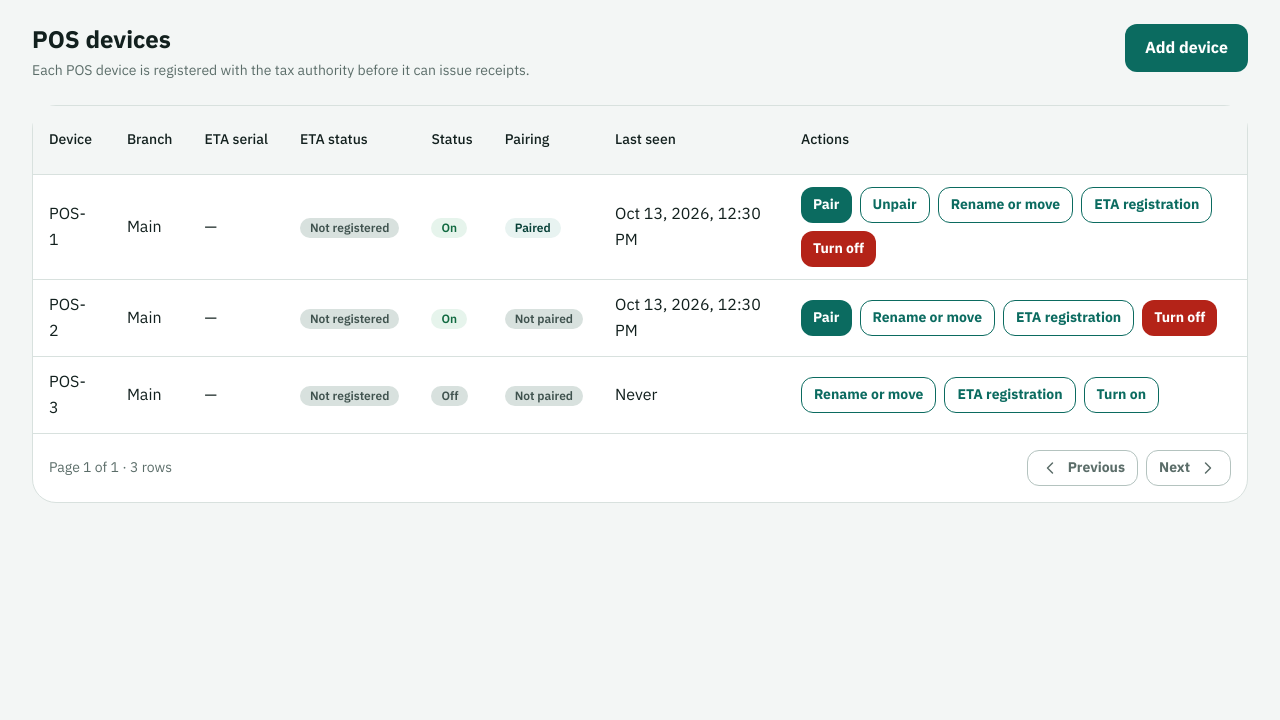
Scenario: O03 POS devices › turning a device off asks for a reason; turning it on is one click
This screenshot has width=1280, height=720.
Click the 1st button "Turn off". click: (838, 249)
box: [801,231,876,267]
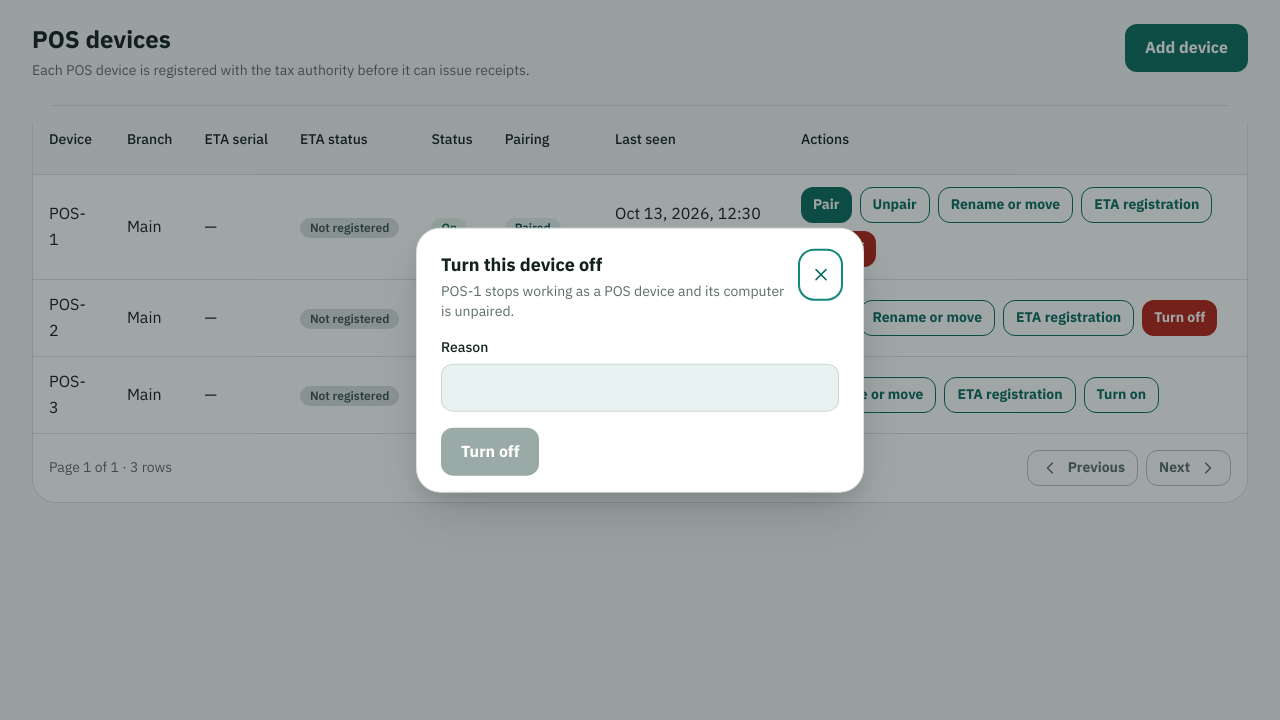
Expected: the button "Turn off" is disabled, [441,427,540,475]
Type "  Stolen " into the field labelled "Reason". click: (640, 387)
box: [441,363,839,411]
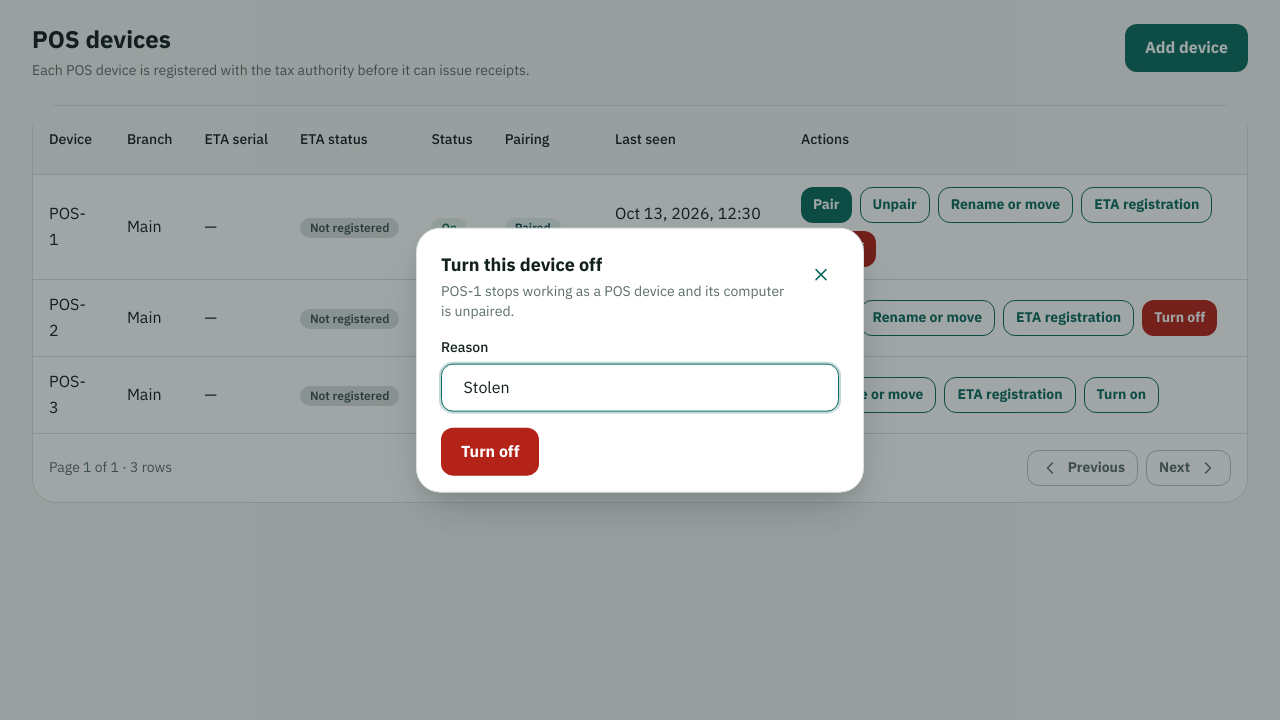
Click the button "Turn off". click: (490, 451)
box: [441,427,540,475]
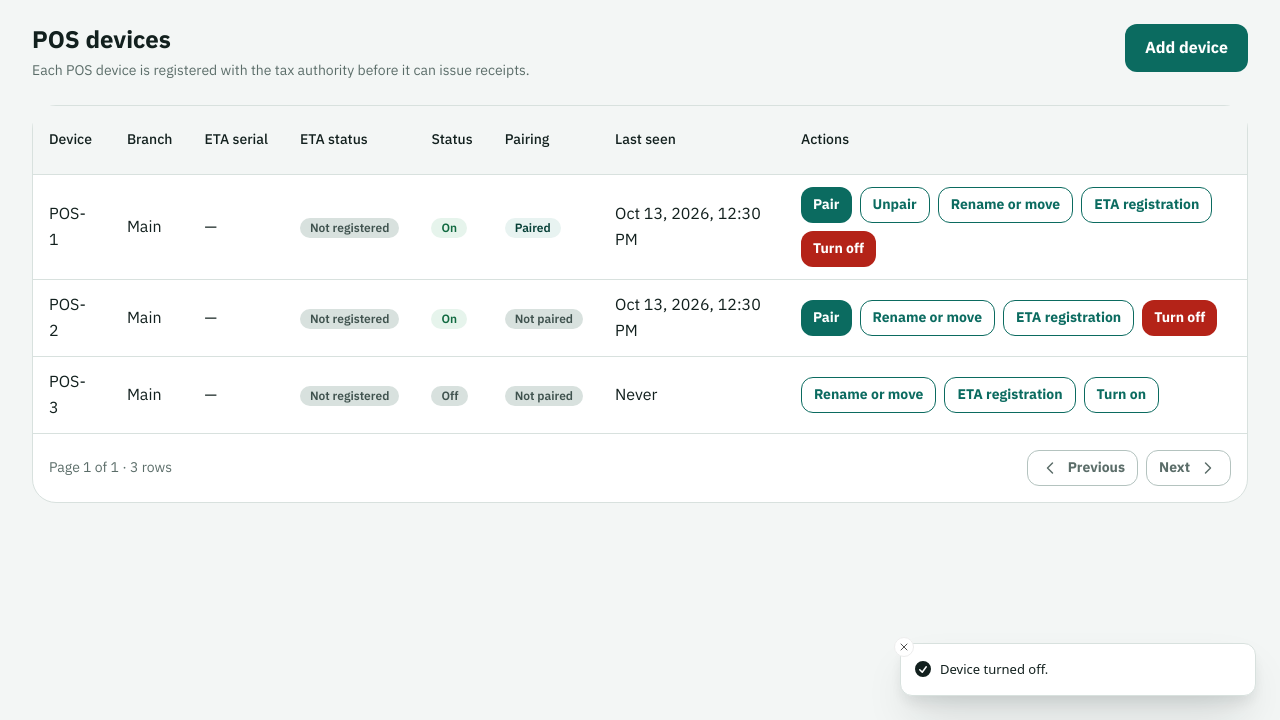
Expected: the dialog is gone
Click the button "Turn on". click: (1121, 395)
box: [1084,377,1159,413]
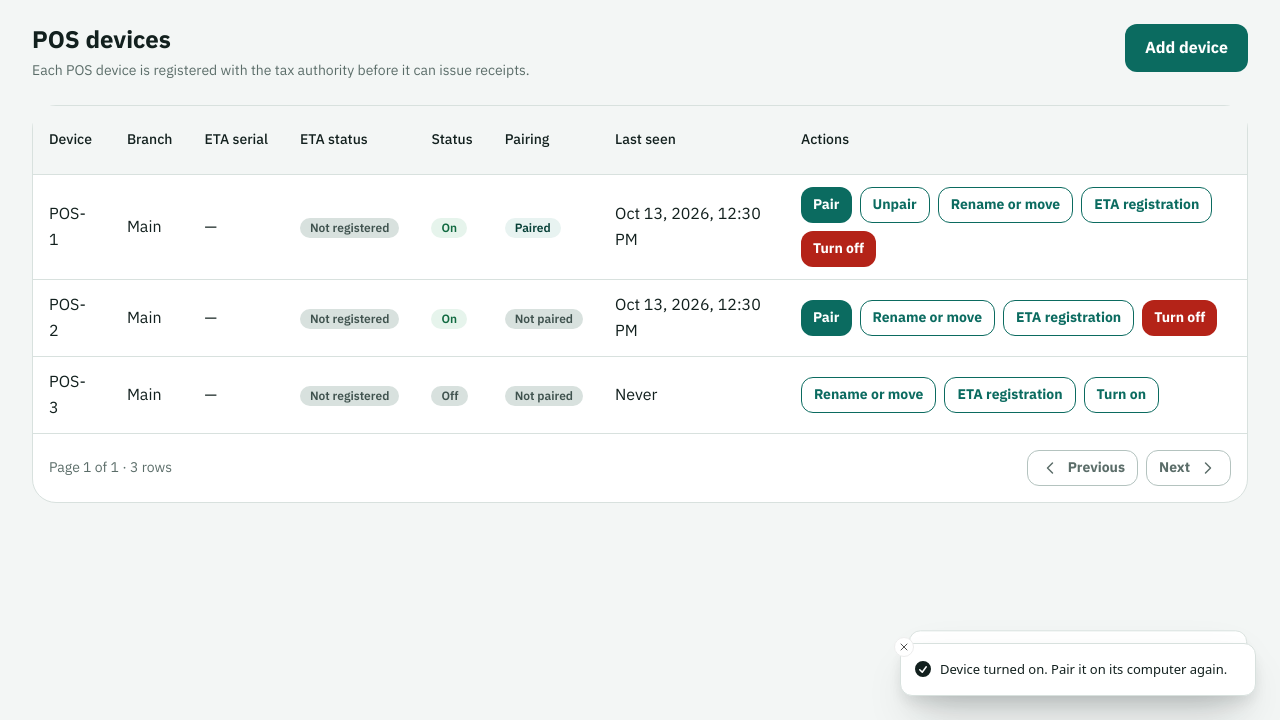
Expected: the text "Device turned on. Pair it on its computer again." is shown, [940,660,1227,679]
